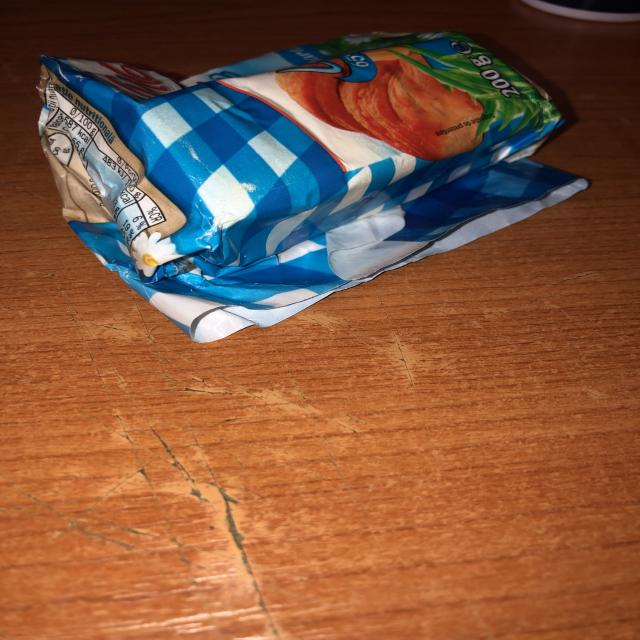butter: (37, 34, 585, 341)
